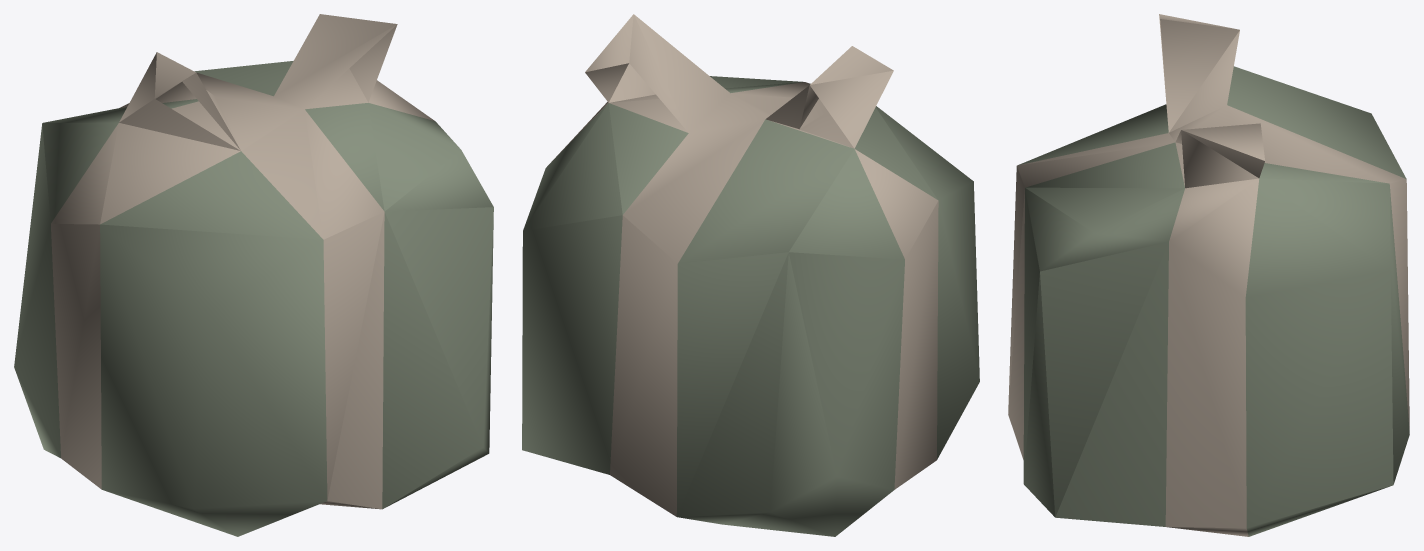
Rendered from gift_01.low.glb.
3 views of the same model, side by side, from view 1: azimuth 30°, elevation 25°; view 2: azimuth 150°, elevation 25°; view 3: azimuth 270°, elevation 25° (orthographic). The views are drawn at different scales.
Bounding box in the file's own units: 1.37 × 1.58 × 1.34.
